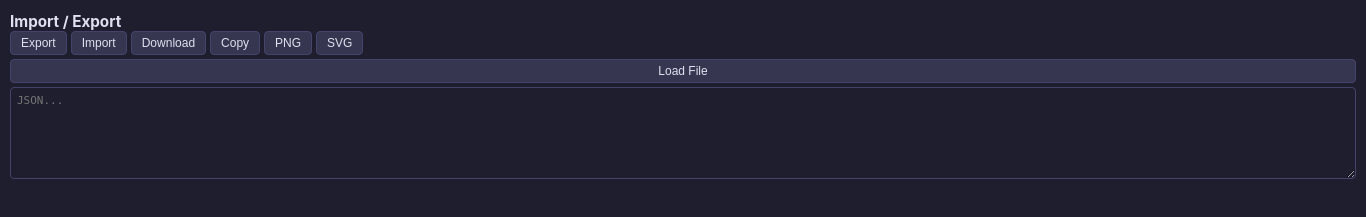
ImportExportPanel › import with invalid JSON shows error
This screenshot has width=1366, height=217.
Type "not json" into the text box with placeholder "JSON...". click: (683, 133)
box: left=10, top=87, right=1356, bottom=179
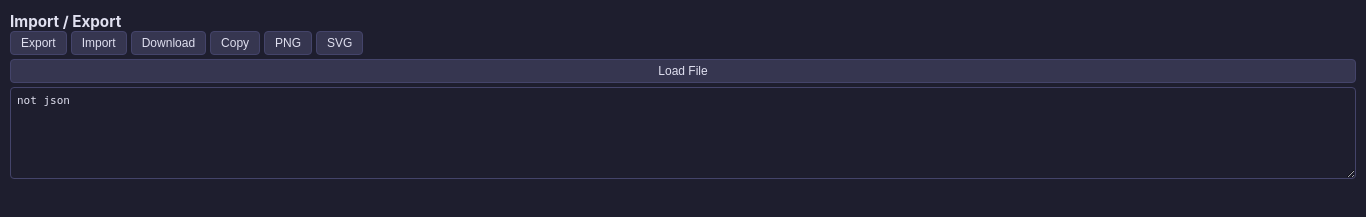
Click the button "Import". click: (99, 43)
box: left=71, top=31, right=127, bottom=55
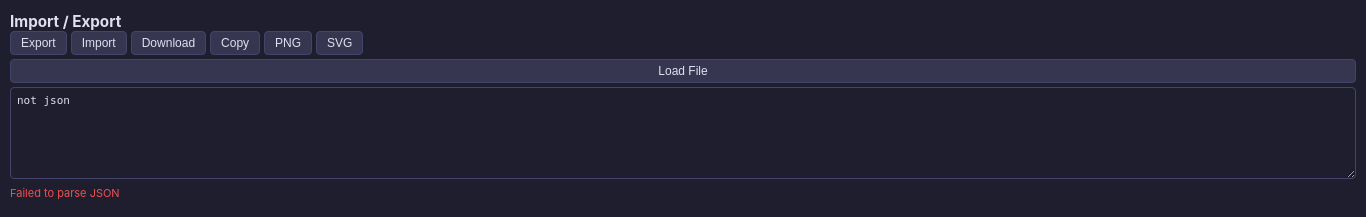
Expected: the text "Failed to parse JSON" is shown, left=10, top=186, right=120, bottom=200
